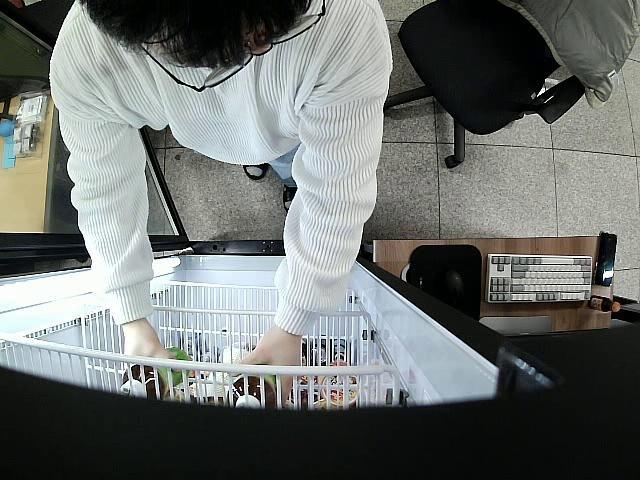19_17cha: (120, 348, 194, 403), (230, 370, 276, 411)
